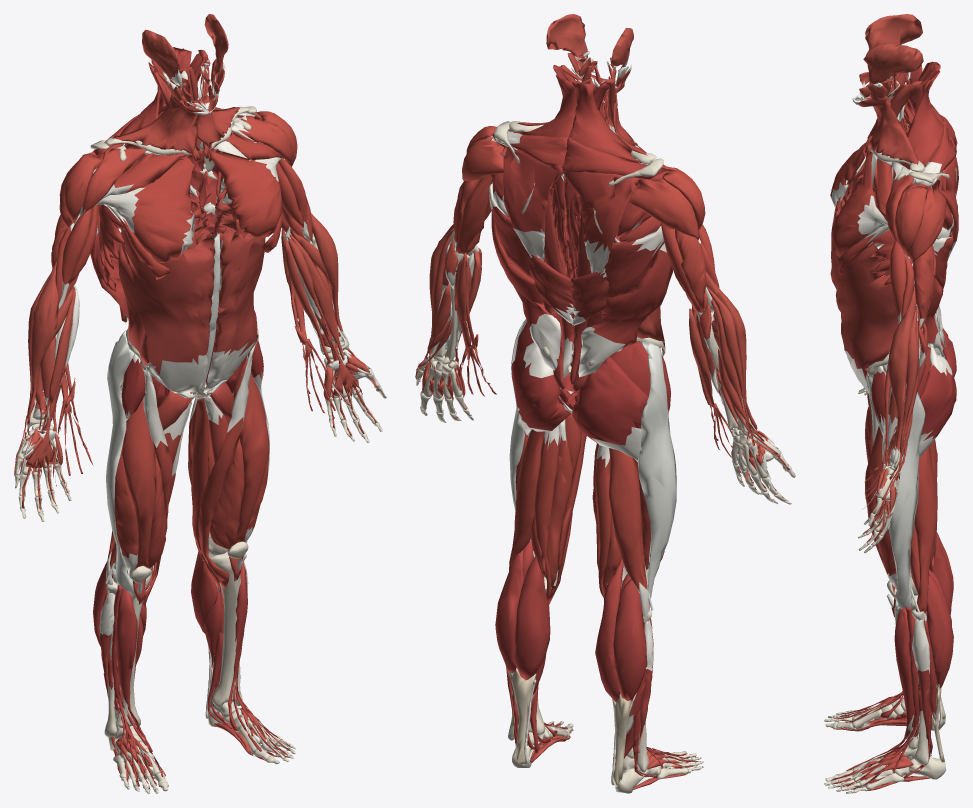
Rendered from anatomyverse-limbs.glb.
3 renders of one model, left to right at view 1: azimuth 30°, elevation 25°; view 2: azimuth 150°, elevation 25°; view 3: azimuth 270°, elevation 25°, orthographic. The views are drawn at different scales.
Visible parts, largest first — view 1: m_external-oblique_R, m_pectoralis-major_R, m_pectoralis-major_L, m_external-oblique_L, m_rectus-femoris_R, m_rectus-femoris_L, m_deltoid_R, f_iliotibial-tract_R, m_platysma_R, m_sartorius_L, b_tibia_L, m_vastus-medialis_L (+44 smaller); view 2: m_trapezius_R, m_trapezius_L, f_iliotibial-tract_R, m_latissimus-dorsi_R, m_gastrocnemius_L, m_gastrocnemius_R, m_gluteus-maximus_R, m_biceps-femoris_R, m_deltoid_R, m_latissimus-dorsi_L, m_gluteus-maximus_L, m_triceps-brachii_R (+30 smaller); view 3: m_external-oblique_L, f_iliotibial-tract_L, m_deltoid_L, m_pectoralis-major_L, m_trapezius_L, m_biceps-femoris_L, m_gastrocnemius_L, b_foot-bones_L, m_brachioradialis_L, m_platysma_L, m_gluteus-maximus_L, m_temporalis_L (+40 smaller).
Boxes of the visible parts, box(x1,y1,x2,y2) form: m_external-oblique_R: box(117, 233, 215, 375); m_pectoralis-major_R: box(114, 153, 196, 279); m_pectoralis-major_L: box(211, 132, 283, 252); m_external-oblique_L: box(213, 229, 265, 356); m_rectus-femoris_R: box(121, 377, 156, 604); m_rectus-femoris_L: box(228, 357, 269, 581); m_deltoid_R: box(59, 148, 145, 227); f_iliotibial-tract_R: box(106, 329, 135, 595); m_platysma_R: box(112, 93, 201, 153); m_sartorius_L: box(198, 417, 243, 589); b_tibia_L: box(208, 552, 242, 707); m_vastus-medialis_L: box(209, 438, 244, 570); m_trapezius_R: box(562, 82, 665, 253); m_trapezius_L: box(503, 76, 576, 232); f_iliotibial-tract_R: box(637, 341, 676, 604); m_latissimus-dorsi_R: box(591, 240, 672, 350); m_gastrocnemius_L: box(495, 549, 550, 680); m_gastrocnemius_R: box(595, 559, 647, 702); m_gluteus-maximus_R: box(572, 356, 648, 445); m_biceps-femoris_R: box(609, 448, 647, 590); m_deltoid_R: box(629, 164, 705, 239); m_latissimus-dorsi_L: box(491, 206, 551, 327); m_gluteus-maximus_L: box(511, 347, 570, 430); m_triceps-brachii_R: box(660, 223, 707, 312); m_external-oblique_L: box(830, 240, 898, 379); f_iliotibial-tract_L: box(882, 364, 925, 609); m_deltoid_L: box(885, 169, 946, 263); m_pectoralis-major_L: box(831, 153, 892, 274); m_trapezius_L: box(906, 70, 958, 244); m_biceps-femoris_L: box(910, 445, 937, 613); m_gastrocnemius_L: box(926, 569, 953, 688); b_foot-bones_L: box(824, 746, 946, 793); m_brachioradialis_L: box(888, 284, 916, 451); m_platysma_L: box(857, 96, 918, 164); m_gluteus-maximus_L: box(920, 364, 956, 440); m_temporalis_L: box(863, 43, 923, 84).
Size of the model in its own units: 0.8564 by 1.6 by 0.27.
